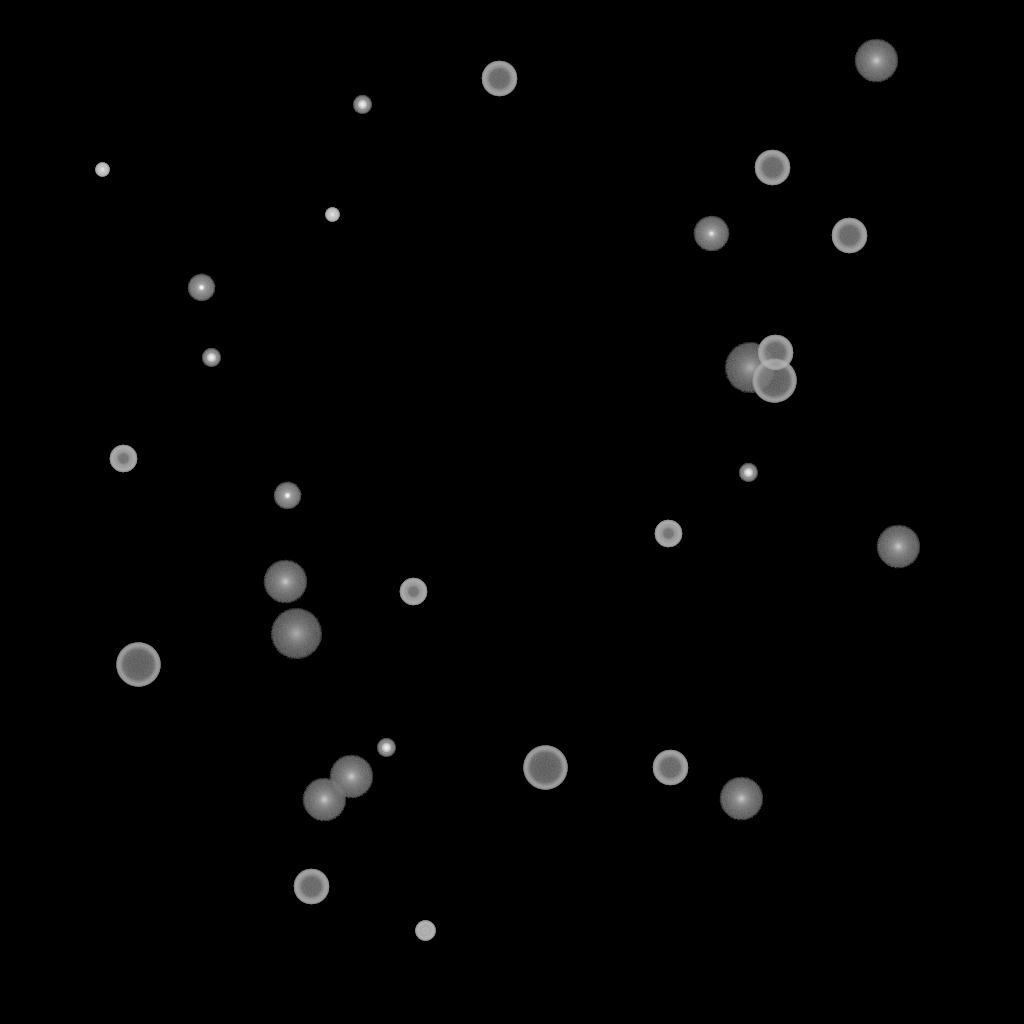depth:-10: (273, 482, 301, 510), (187, 274, 215, 302)
depth:-20: (353, 96, 371, 114), (377, 739, 395, 757), (739, 464, 757, 482), (202, 349, 220, 367)
depth:-30: (325, 208, 339, 222), (95, 163, 109, 177)
depth:-40: (415, 921, 435, 941)
depth:-50: (399, 578, 427, 606), (654, 520, 682, 548), (109, 445, 137, 473)
depth:-60: (293, 869, 329, 905), (754, 150, 790, 186), (831, 218, 867, 254), (757, 335, 793, 371), (481, 61, 517, 97), (652, 750, 688, 786)
depth:-70: (752, 359, 796, 403), (116, 643, 160, 687), (523, 746, 567, 790)
depth:0: (693, 216, 729, 252)
depth:10: (719, 777, 763, 821), (854, 39, 898, 83), (263, 560, 307, 604), (329, 755, 373, 799), (302, 778, 346, 822), (876, 525, 920, 569)
depth:20: (270, 609, 322, 659), (724, 343, 776, 393)
